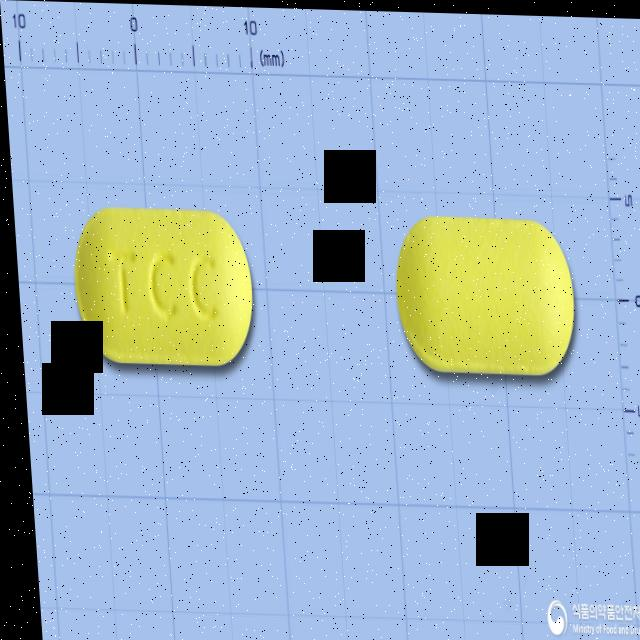Cf: (67, 206, 254, 371), (388, 211, 575, 372)
